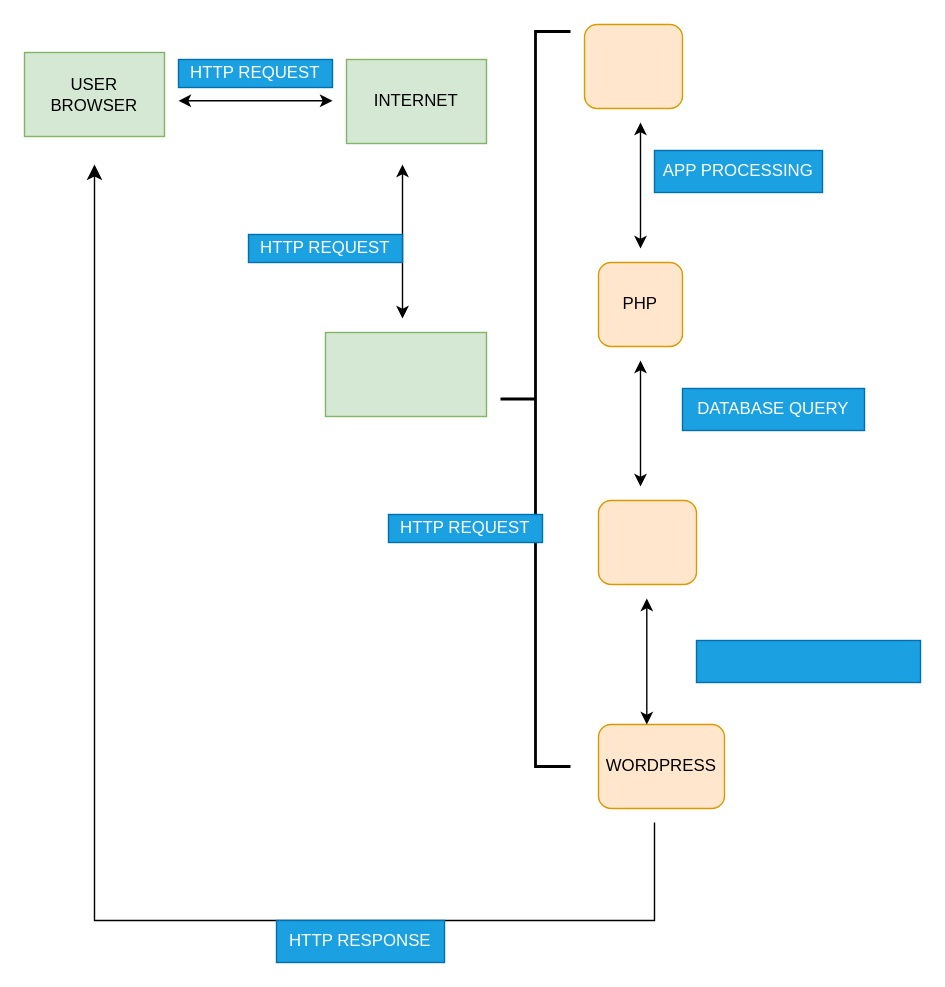
Image size: 945x987. Some labels were removed from this diagram. Here are the shapes that lost their labels. From the top down, the box of each, then its label:
(583, 23, 682, 108): APACHE
(324, 331, 486, 416): EC2
(597, 499, 696, 584): MYSQL
(695, 639, 920, 682): DATABASE RESPONSE
